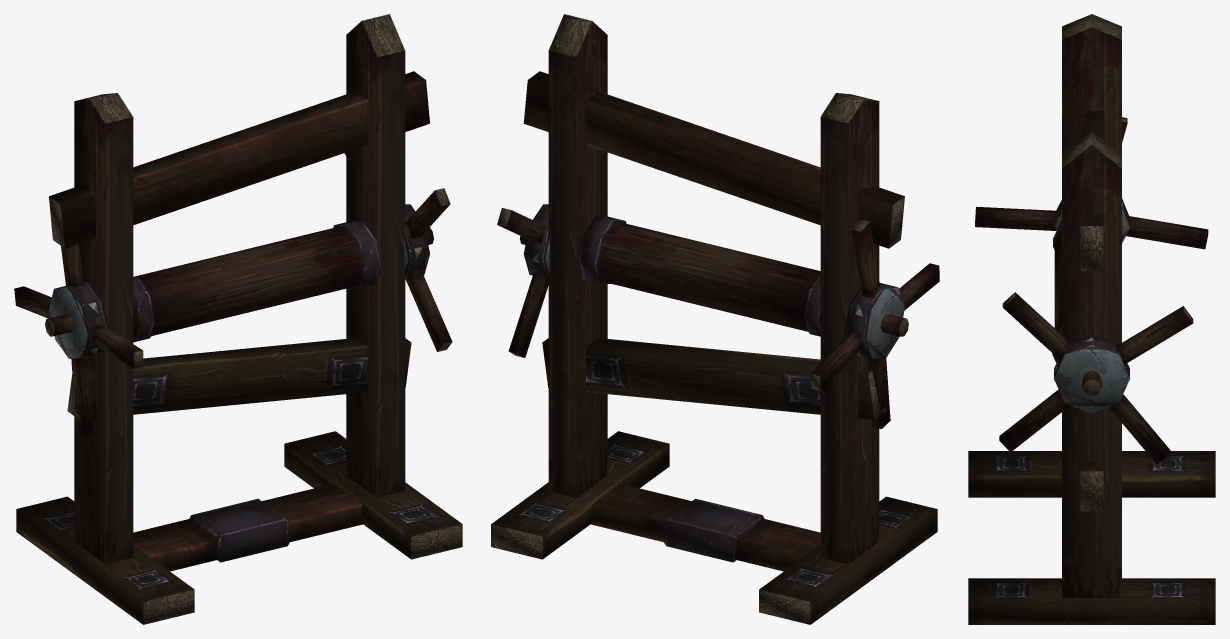
Rendered from B_mujia001.fbx.
3 renders of one model, left to right at view 1: azimuth 30°, elevation 25°; view 2: azimuth 150°, elevation 25°; view 3: azimuth 270°, elevation 25°, orthographic. The views are drawn at different scales.
Parts seen in each view (by area): view 1: B_mujia001; view 2: B_mujia001; view 3: B_mujia001.
Part boxes in pixels (x1,y1,x2,y2): B_mujia001: (14,14,462,624); B_mujia001: (491,14,939,624); B_mujia001: (968,14,1215,624).
Bounding box in the file's own units: 451 × 560 × 262.
